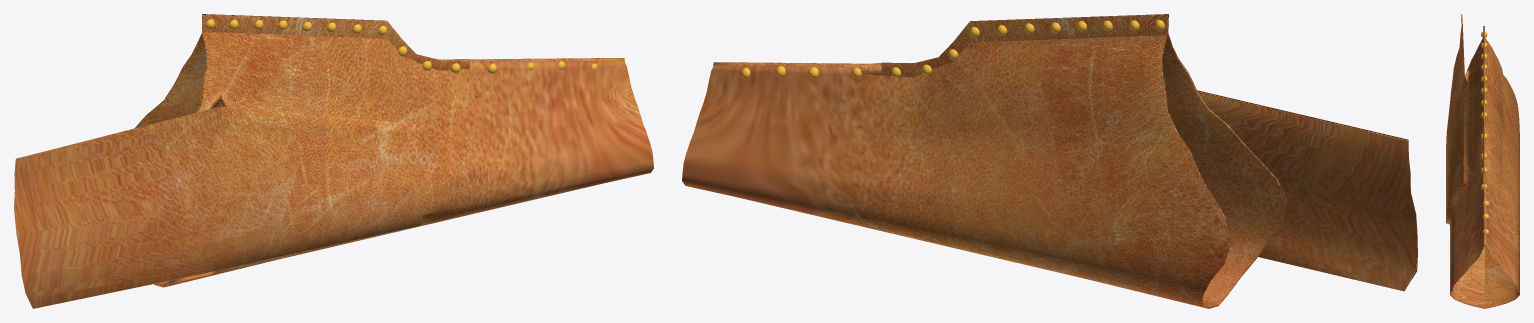
File: holster-right.fbx
3 views of the same model, side by side, from view 1: azimuth 30°, elevation 25°; view 2: azimuth 150°, elevation 25°; view 3: azimuth 270°, elevation 25° (orthographic). The views are drawn at different scales.
Parts seen in each view (by area): view 1: Sphere; view 2: Sphere; view 3: Sphere.
Part boxes in pixels (x1,y1,x2,y2): Sphere: [14, 14, 653, 308]; Sphere: [682, 14, 1417, 308]; Sphere: [1446, 14, 1519, 308].
Bounding box in the file's own units: 268 × 105 × 44.72.
1 material, 1 textured.
